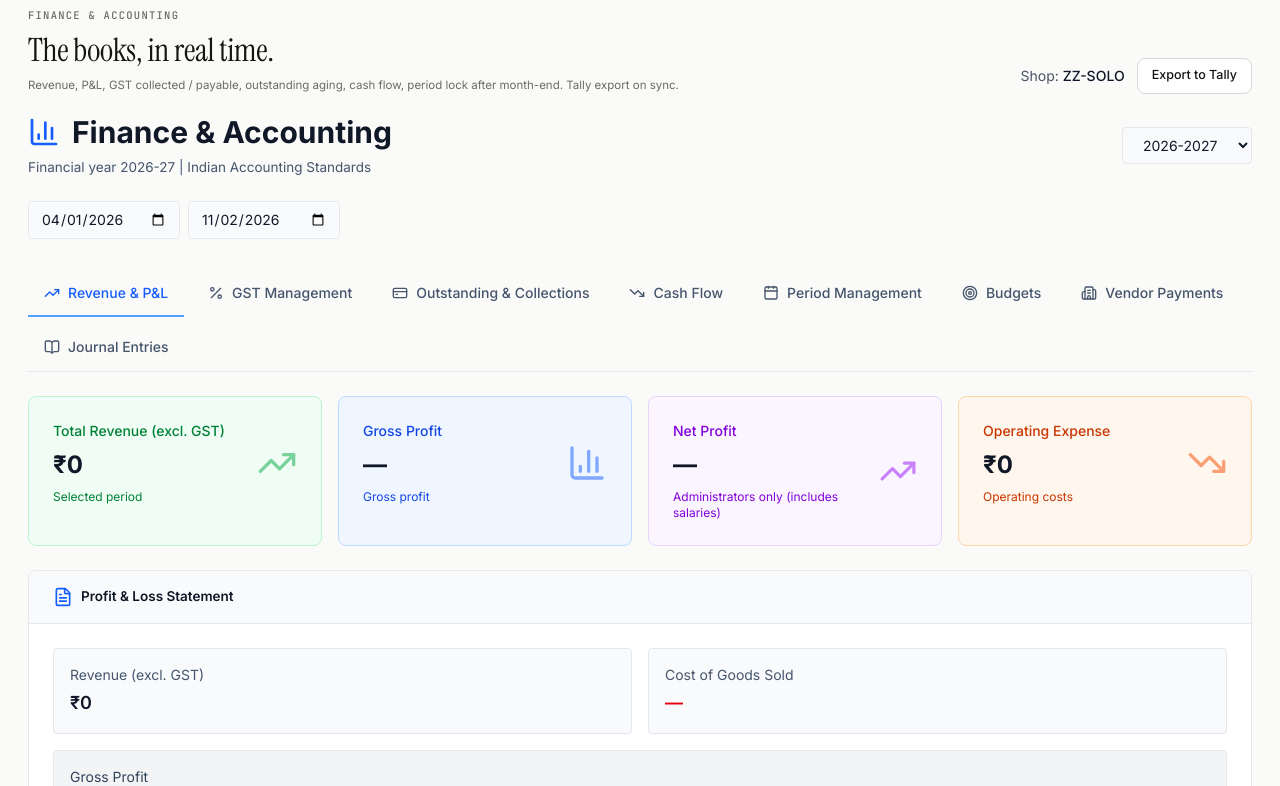
Scenario: FinanceDashboard - vendor payables follow the accounts rule › ACCOUNTANT: still sees the tab and the schedule
Click the button "Outstanding & Collections" at point(491, 294), box top-left (376, 271), bottom-right (606, 317)
(page scrolled)
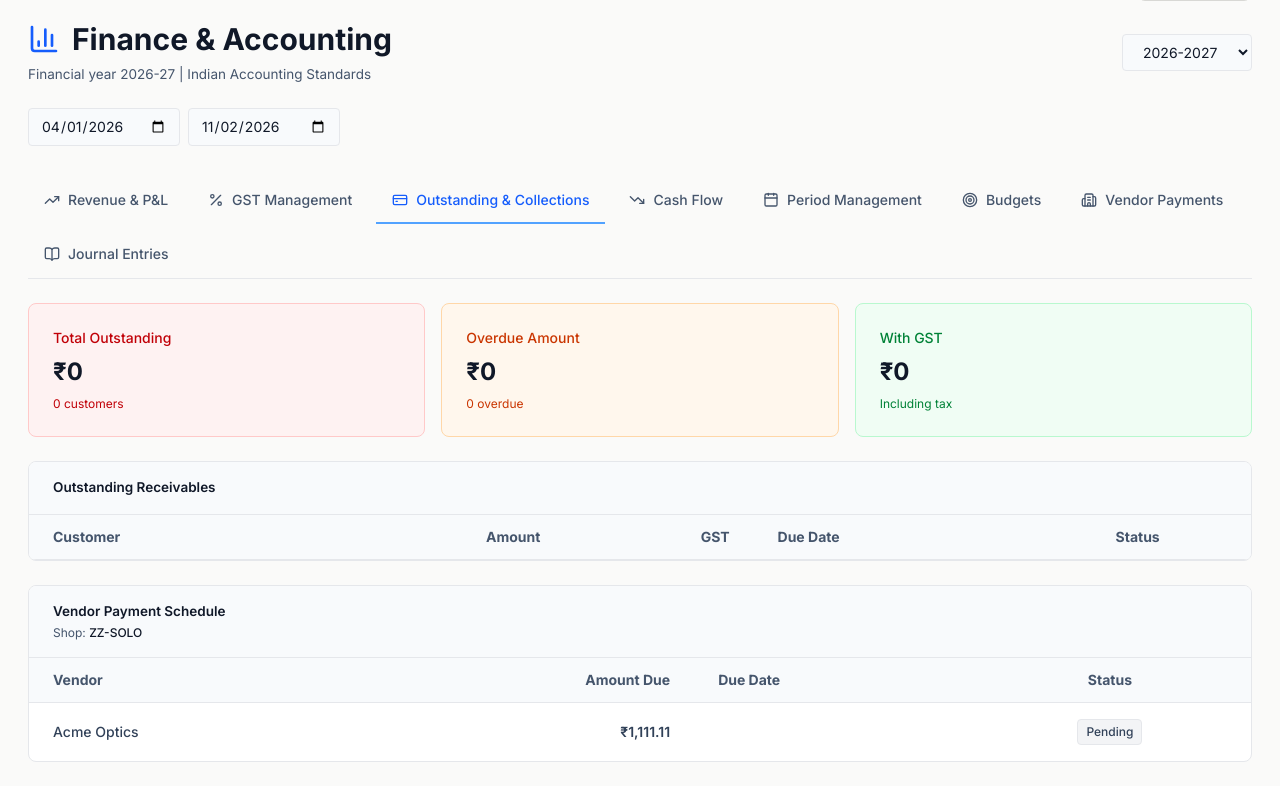
expect the button "Vendor Payments" is shown: met, box top-left (1065, 178), bottom-right (1239, 224)
expect the heading "Vendor Payment Schedule" is shown: met, box top-left (53, 603), bottom-right (225, 619)
expect the text "Acme Optics" is shown: met, box top-left (29, 703), bottom-right (362, 761)
